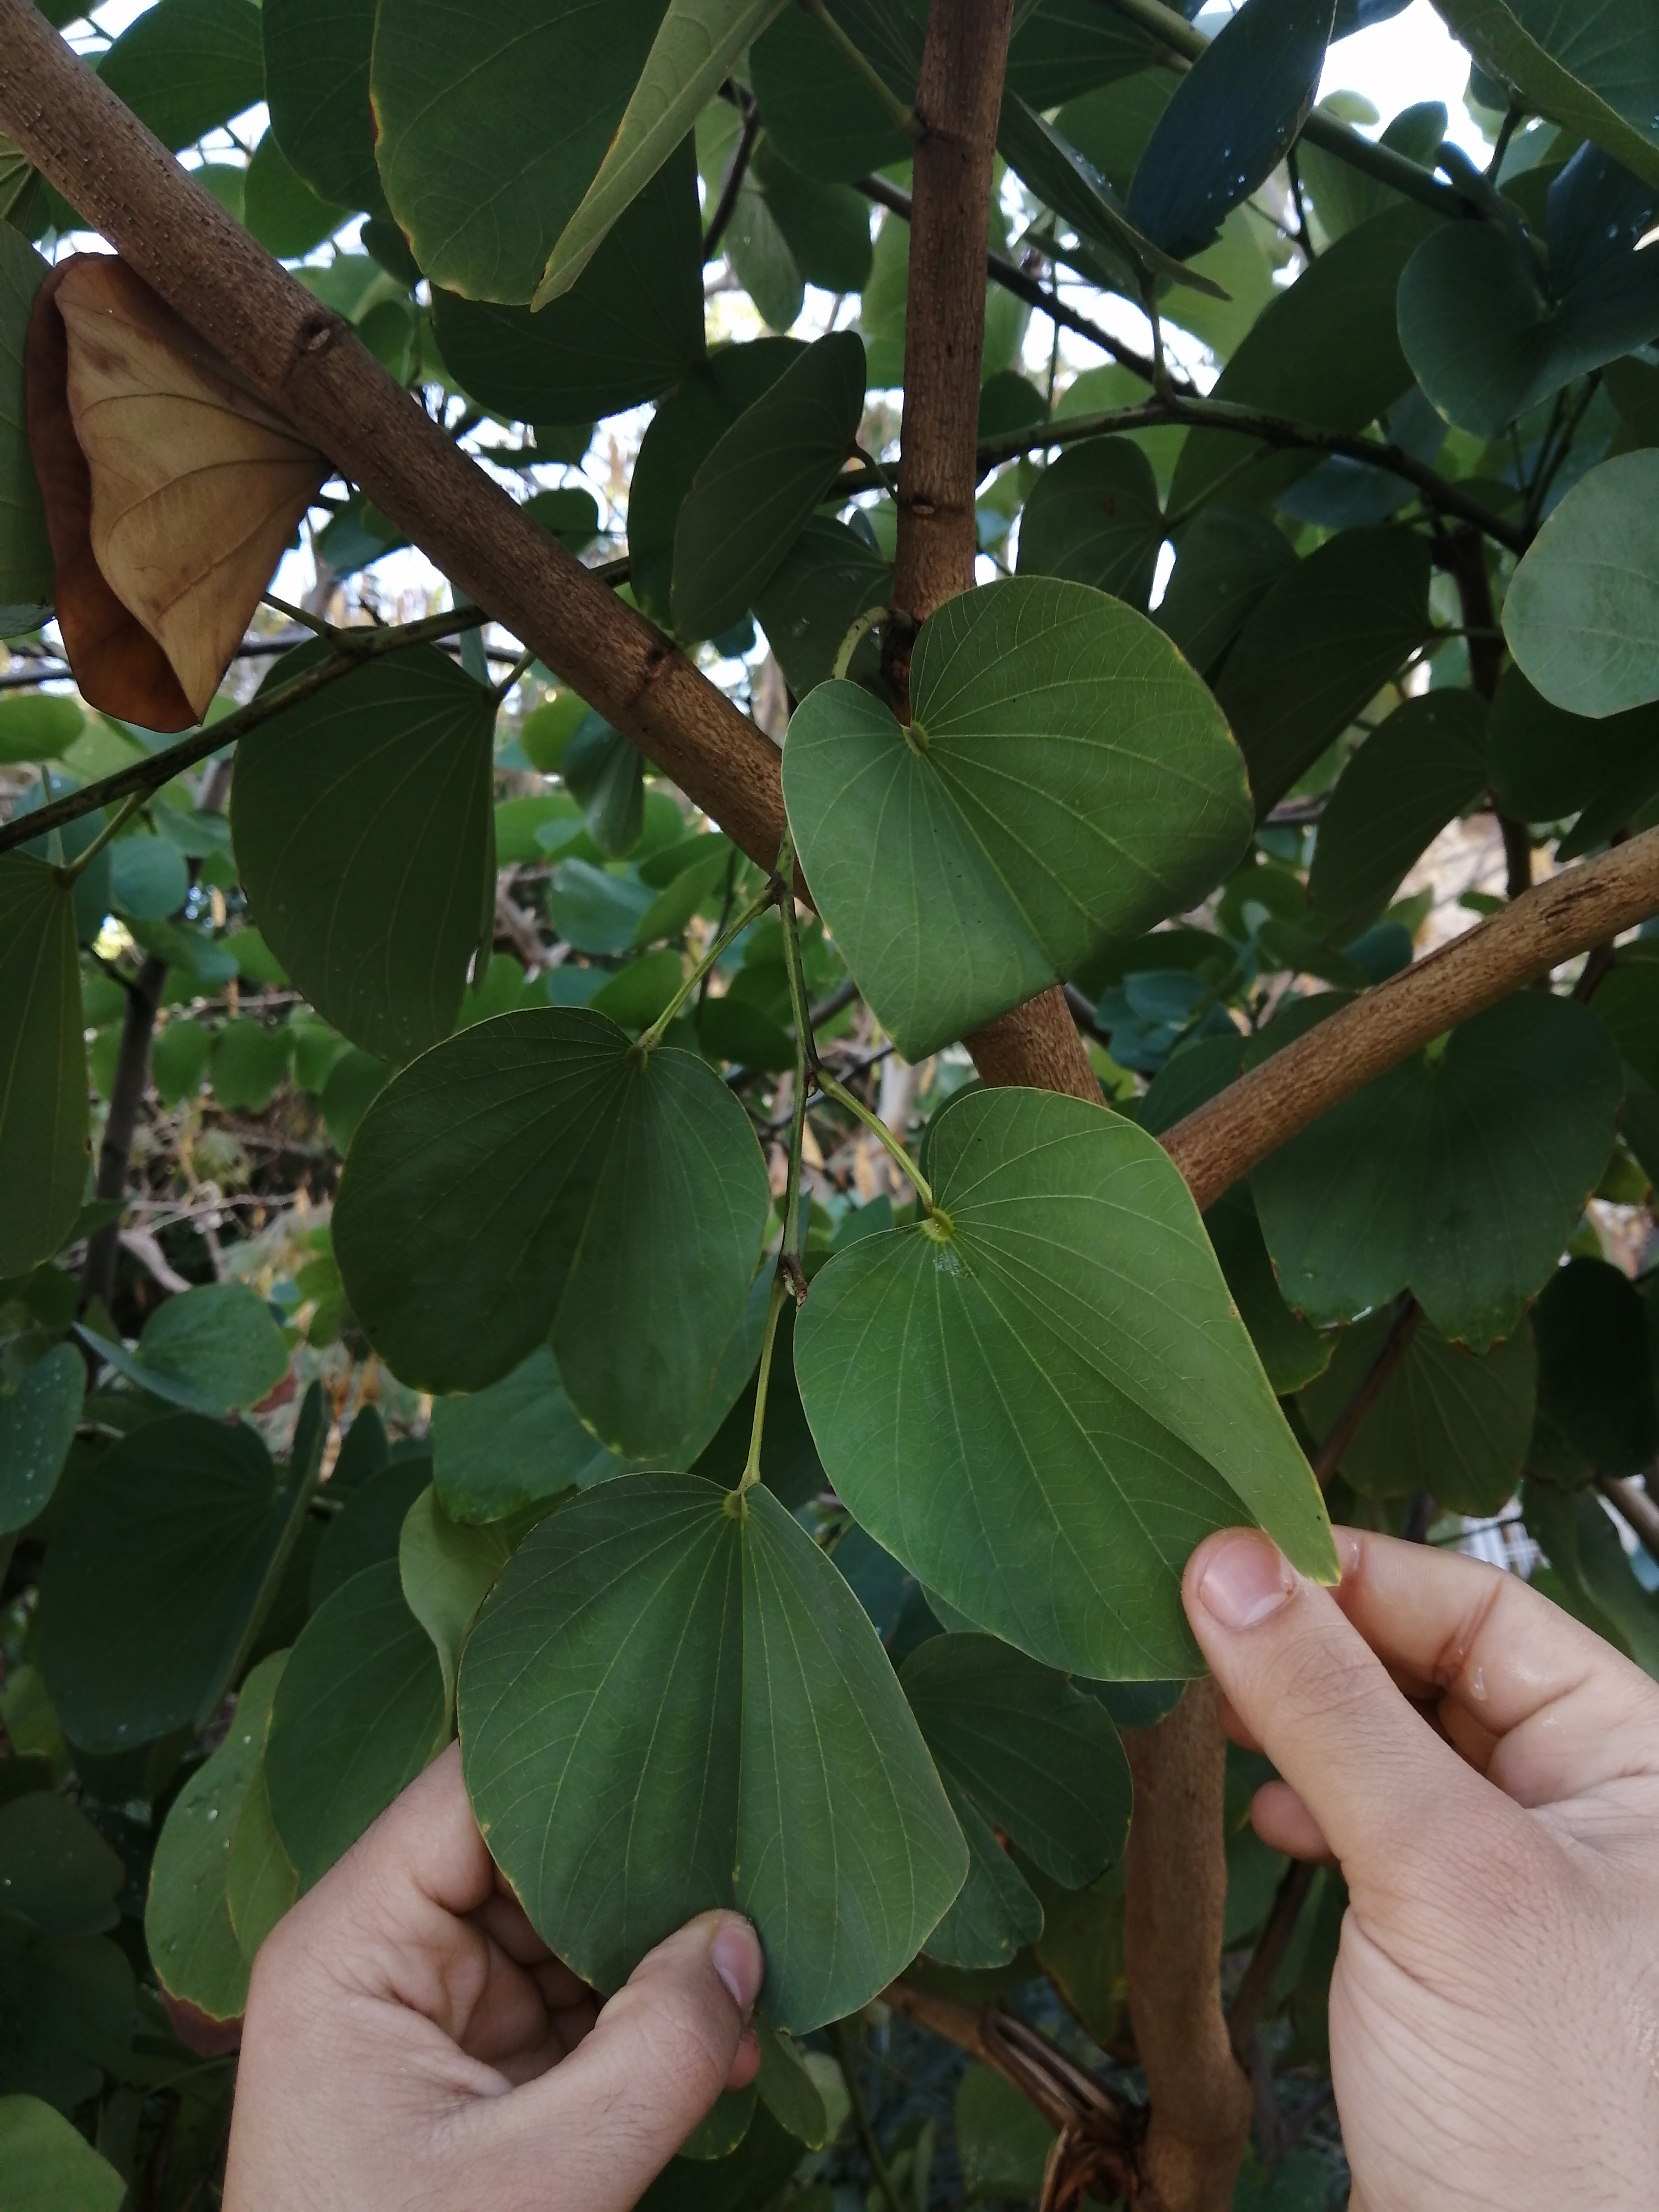healthy: (774, 543, 1304, 1028), (333, 1033, 748, 1453)
